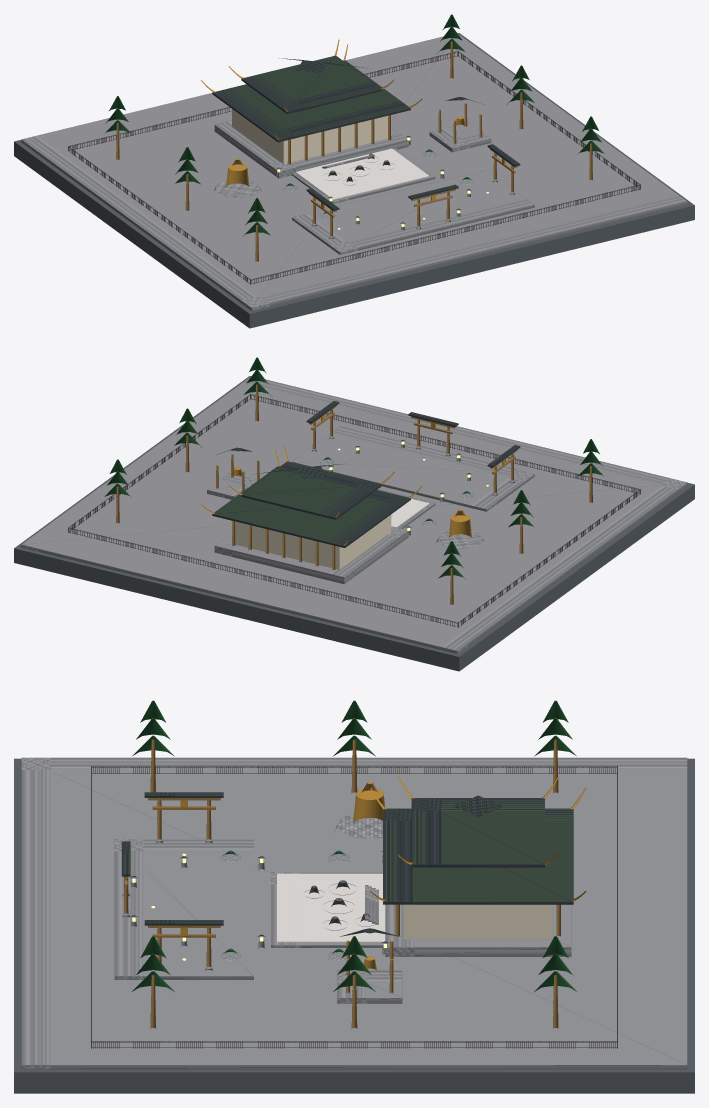
Rendered from ultra_lm_28_chua_linh_quy_phap_an.glb.
The picture shows the model from 3 angles, top to bottom: view 1: azimuth 30°, elevation 25°; view 2: azimuth 150°, elevation 25°; view 3: azimuth 270°, elevation 25°; orthographic projection. The views are drawn at different scales.
Parts seen in each view (by area): view 1: CloudDeck_Terraces_And_Steps, FoundationSkirt_Minus3m, QuanChieuDuong_And_BellTower_Roofs, CloudDeck_Perimeter_Railings, Karesansui_Raked_White_Pebble_Garden, QuanChieuDuong_Sanctuary_Walls, Three_Torii_HeavensGates_And_Columns, Hill45_TeaTerraces_And_Pines, BuddhaFace_Bell_And_RoofFinials; view 2: CloudDeck_Terraces_And_Steps, FoundationSkirt_Minus3m, QuanChieuDuong_And_BellTower_Roofs, CloudDeck_Perimeter_Railings, QuanChieuDuong_Sanctuary_Walls, Three_Torii_HeavensGates_And_Columns, Hill45_TeaTerraces_And_Pines, BuddhaFace_Bell_And_RoofFinials, Karesansui_Raked_White_Pebble_Garden; view 3: CloudDeck_Terraces_And_Steps, FoundationSkirt_Minus3m, QuanChieuDuong_And_BellTower_Roofs, Karesansui_Raked_White_Pebble_Garden, CloudDeck_Perimeter_Railings, QuanChieuDuong_Sanctuary_Walls, Hill45_TeaTerraces_And_Pines, Three_Torii_HeavensGates_And_Columns, BuddhaFace_Bell_And_RoofFinials.
Part boxes in pixels (x1=…): CloudDeck_Terraces_And_Steps: x1=21, y1=33, x2=687, y2=310; FoundationSkirt_Minus3m: x1=14, y1=33, x2=694, y2=328; QuanChieuDuong_And_BellTower_Roofs: x1=212, y1=55, x2=520, y2=223; CloudDeck_Perimeter_Railings: x1=68, y1=51, x2=640, y2=284; Karesansui_Raked_White_Pebble_Garden: x1=295, y1=148, x2=429, y2=199; QuanChieuDuong_Sanctuary_Walls: x1=232, y1=109, x2=469, y2=218; Three_Torii_HeavensGates_And_Columns: x1=116, y1=41, x2=592, y2=261; Hill45_TeaTerraces_And_Pines: x1=105, y1=14, x2=604, y2=235; BuddhaFace_Bell_And_RoofFinials: x1=201, y1=39, x2=505, y2=208; CloudDeck_Terraces_And_Steps: x1=21, y1=376, x2=687, y2=653; FoundationSkirt_Minus3m: x1=14, y1=376, x2=694, y2=671; QuanChieuDuong_And_BellTower_Roofs: x1=212, y1=401, x2=520, y2=547; CloudDeck_Perimeter_Railings: x1=68, y1=394, x2=640, y2=627; QuanChieuDuong_Sanctuary_Walls: x1=232, y1=464, x2=469, y2=569; Three_Torii_HeavensGates_And_Columns: x1=116, y1=384, x2=592, y2=604; Hill45_TeaTerraces_And_Pines: x1=104, y1=357, x2=603, y2=578; BuddhaFace_Bell_And_RoofFinials: x1=201, y1=415, x2=505, y2=545; Karesansui_Raked_White_Pebble_Garden: x1=391, y1=498, x2=429, y2=527; CloudDeck_Terraces_And_Steps: x1=21, y1=757, x2=687, y2=1069; FoundationSkirt_Minus3m: x1=14, y1=758, x2=694, y2=1093; QuanChieuDuong_And_BellTower_Roofs: x1=121, y1=792, x2=573, y2=943; Karesansui_Raked_White_Pebble_Garden: x1=277, y1=873, x2=385, y2=942; CloudDeck_Perimeter_Railings: x1=91, y1=766, x2=617, y2=1048; QuanChieuDuong_Sanctuary_Walls: x1=225, y1=859, x2=552, y2=960; Hill45_TeaTerraces_And_Pines: x1=132, y1=700, x2=576, y2=991; Three_Torii_HeavensGates_And_Columns: x1=124, y1=739, x2=560, y2=1028; BuddhaFace_Bell_And_RoofFinials: x1=180, y1=777, x2=586, y2=970.
Size of the model in its own units: 96 by 18.58 by 88.
Materials: 10 (4 with a texture image).
